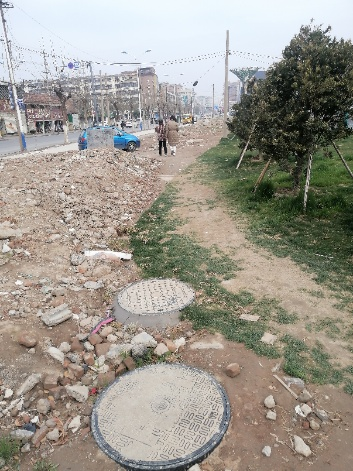good: (91, 362, 230, 471), (117, 277, 198, 315)
